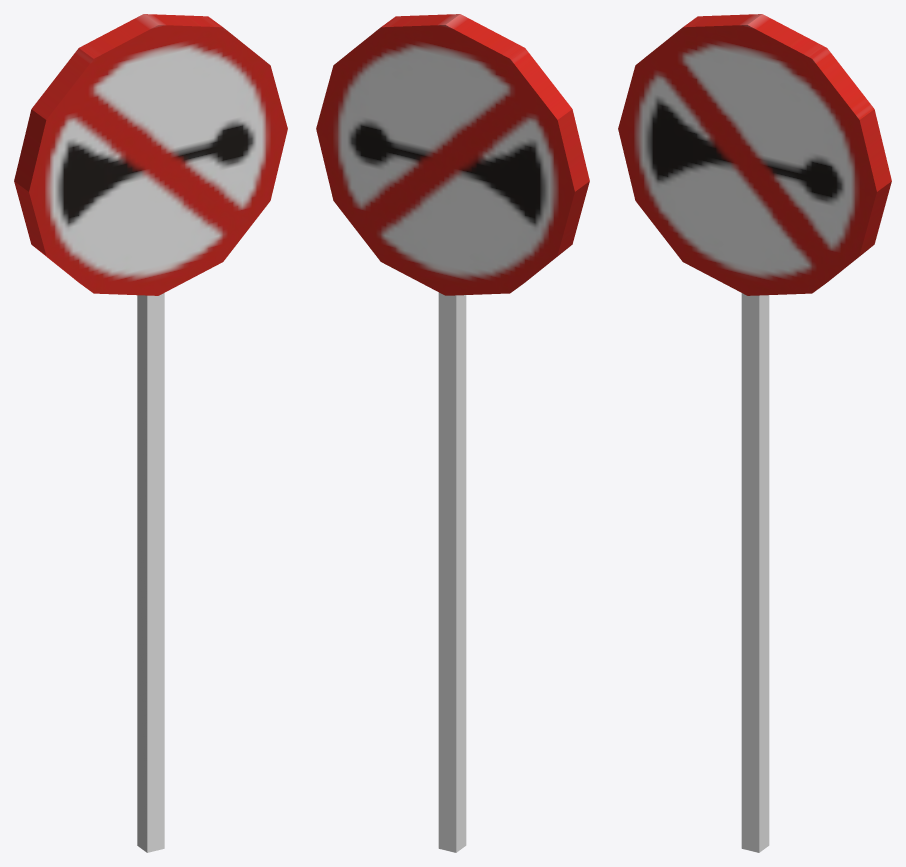
The model's file is PlacaProibidoBuzina.fbx.
3 renders of one model, left to right at view 1: azimuth 30°, elevation 25°; view 2: azimuth 150°, elevation 25°; view 3: azimuth 330°, elevation 25°, orthographic.
Parts seen in each view (by area): view 1: Placa-Proibido-Buzina-8; view 2: Placa-Proibido-Buzina-8; view 3: Placa-Proibido-Buzina-8.
Part boxes in pixels (left/top/right/bottom): Placa-Proibido-Buzina-8: left=14, top=14, right=287, bottom=852; Placa-Proibido-Buzina-8: left=316, top=14, right=589, bottom=852; Placa-Proibido-Buzina-8: left=618, top=14, right=891, bottom=852.
Bounding box in the file's own units: 0.7576 × 2.31 × 0.0758.
